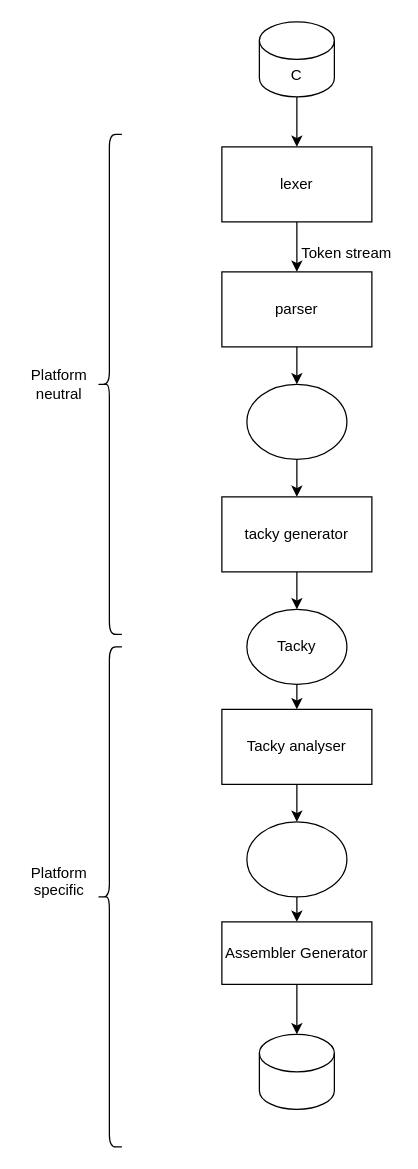
This 418x1169 diagram has some shape labels left out. Each missing label, with the centre of its shape:
"assembler" belongs at [296,1071].
"Assembler AST" belongs at [296,859].
"C AST" belongs at [296,421].
